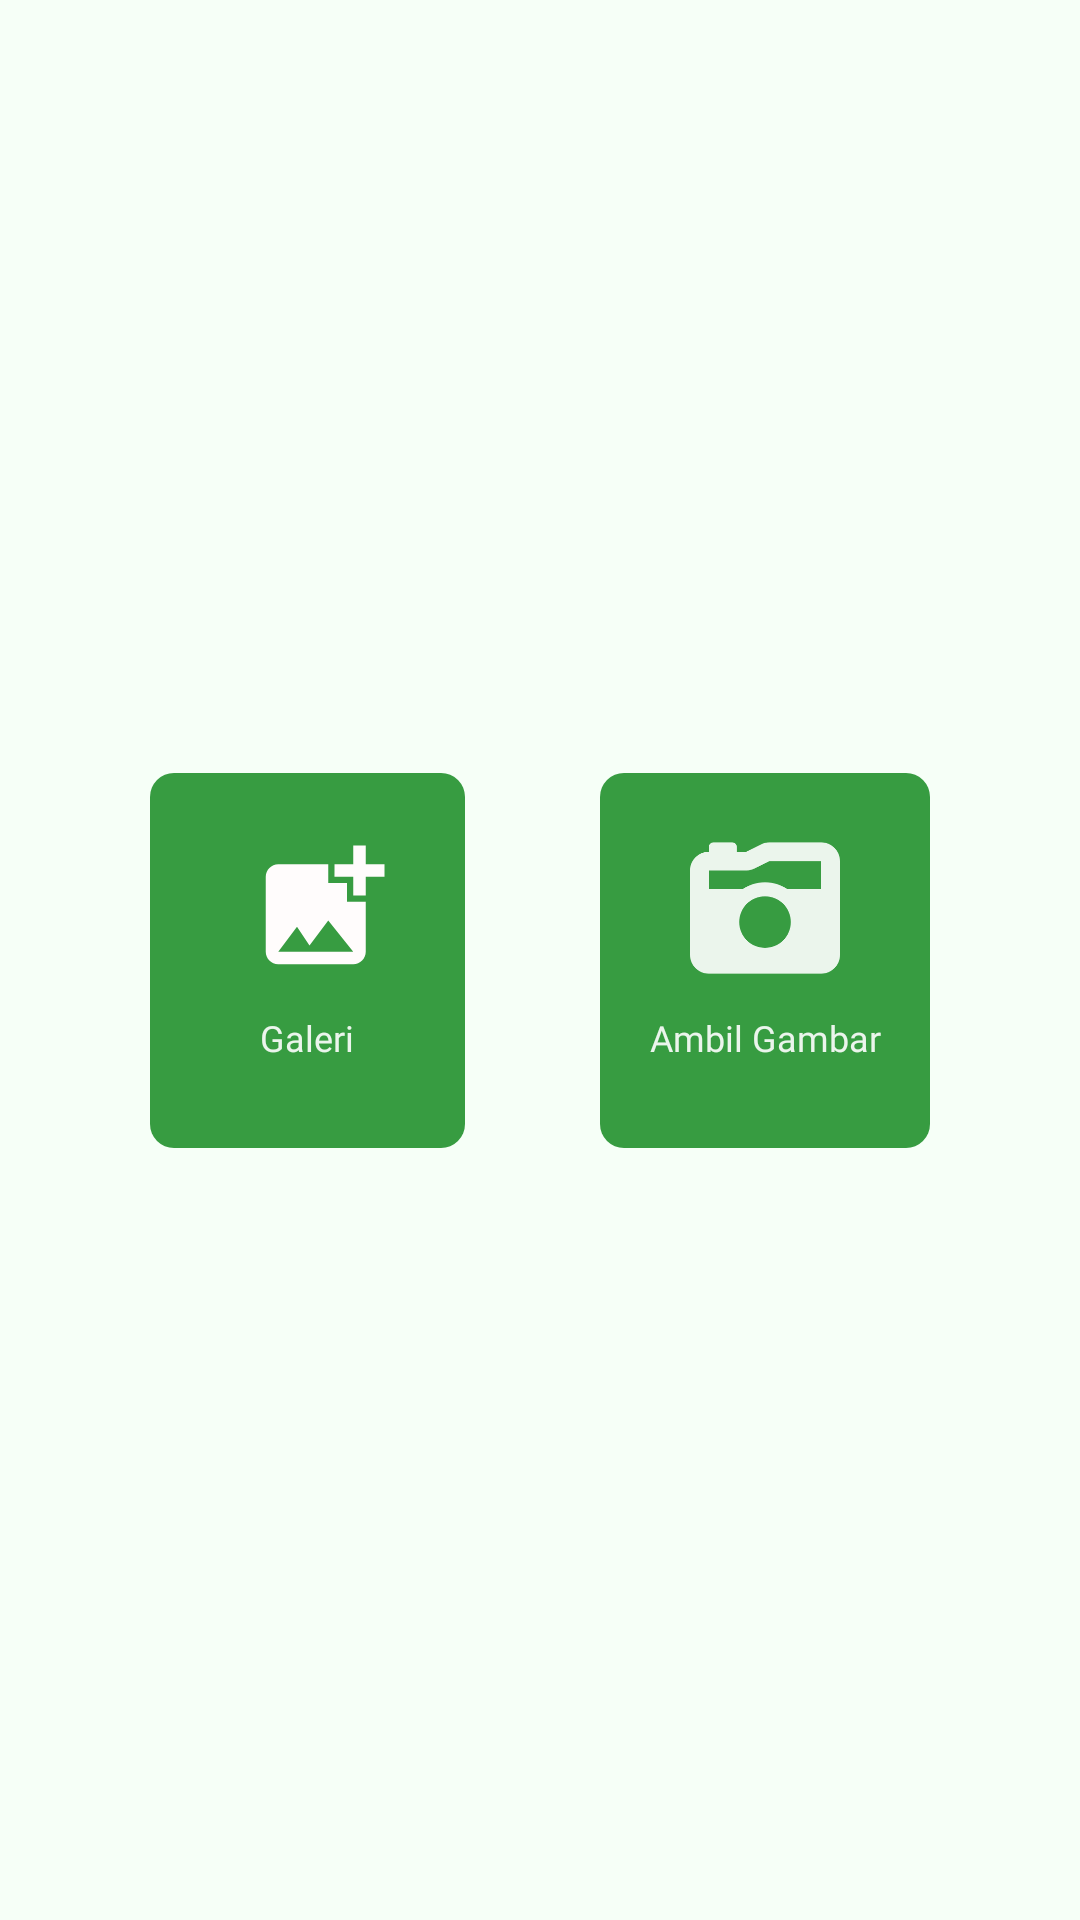

Where to tap for icons on this 1080w x 1920h app screen, as (x=x, y=y):
add photo alternate: (x=325, y=905)
camera retro: (x=765, y=908)
